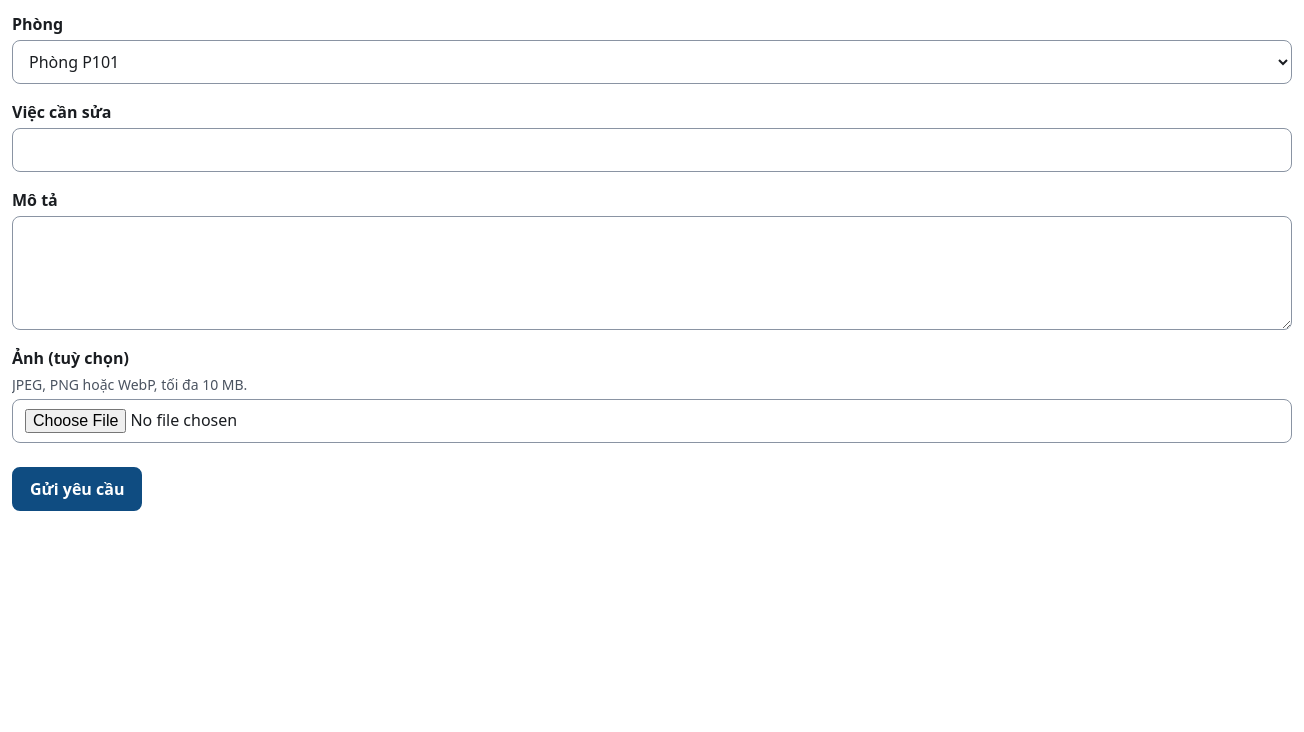
RequestForm › một phòng: không hiện ô chọn phòng; nhiều phòng: có ô chọn và gửi đúng phòng đã chọn
Select "Phòng P102" in the dropdown labelled "Phòng": (652, 62) x1=12 y1=40 x2=1292 y2=84
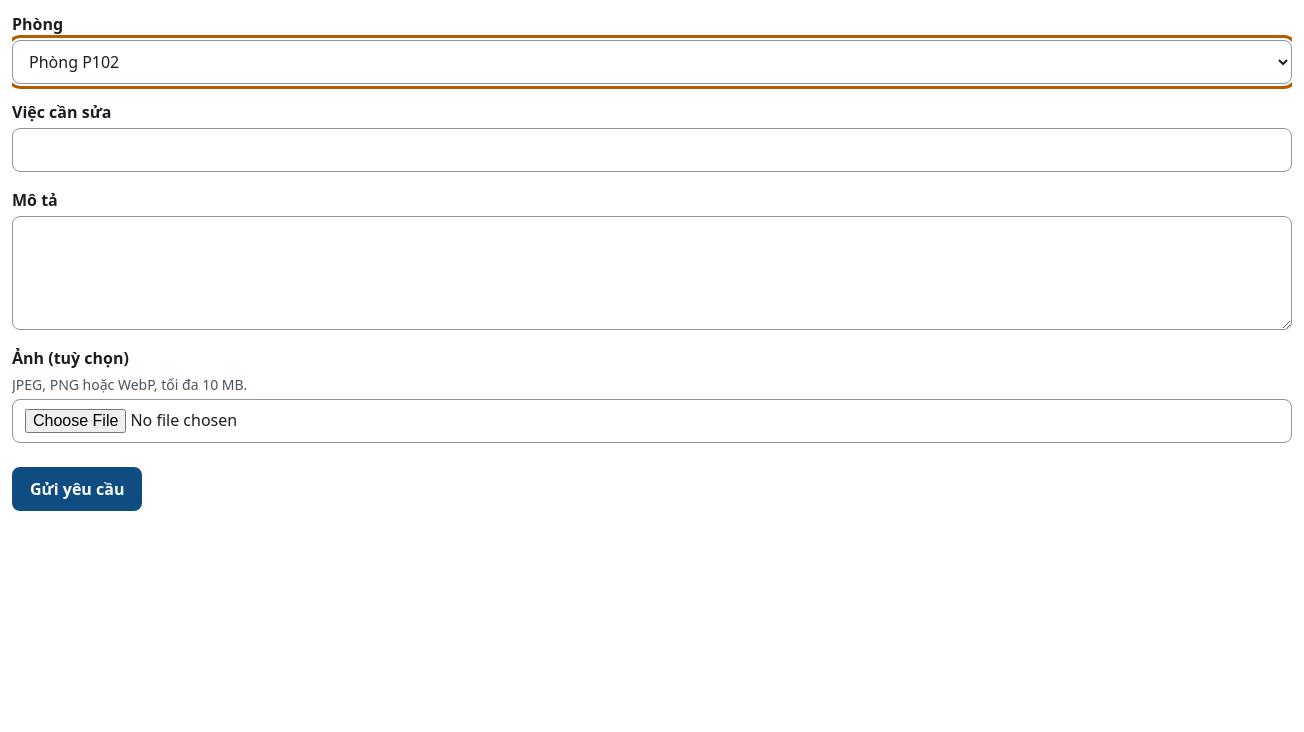
In the field labelled "Việc cần sửa": (652, 150) x1=12 y1=128 x2=1292 y2=172, type "Vòi nước rỉ"
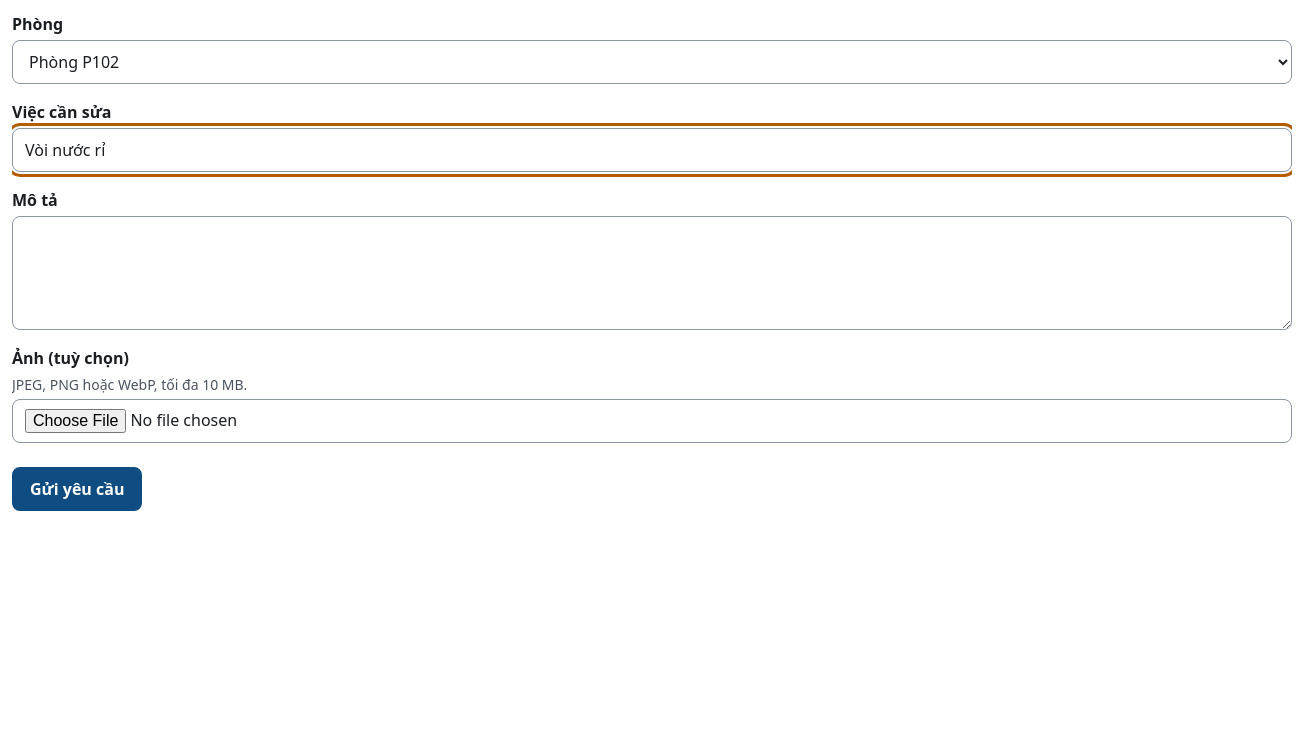
In the text box labelled "Mô tả": (652, 273) x1=12 y1=216 x2=1292 y2=330, type "Vòi bồn rửa mặt rỉ nước suốt đêm"
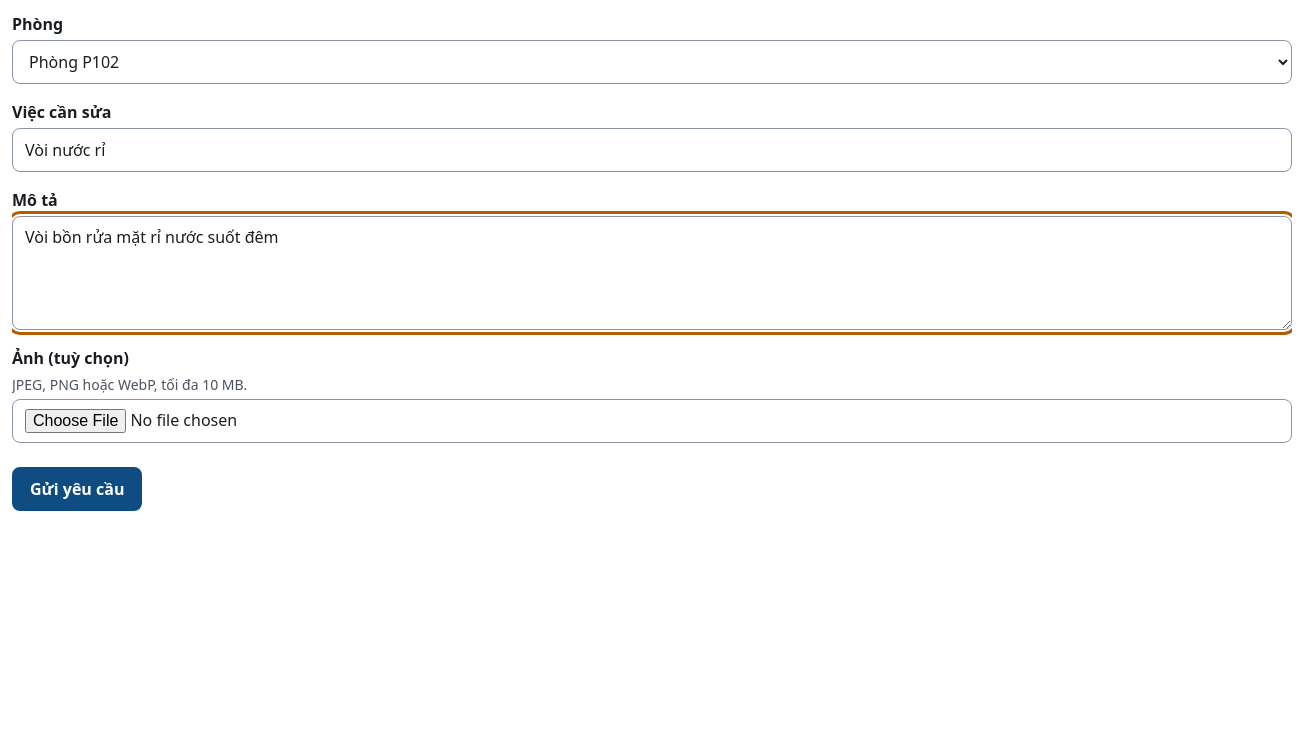
Click the button "Gửi yêu cầu": (77, 489) x1=12 y1=467 x2=142 y2=511
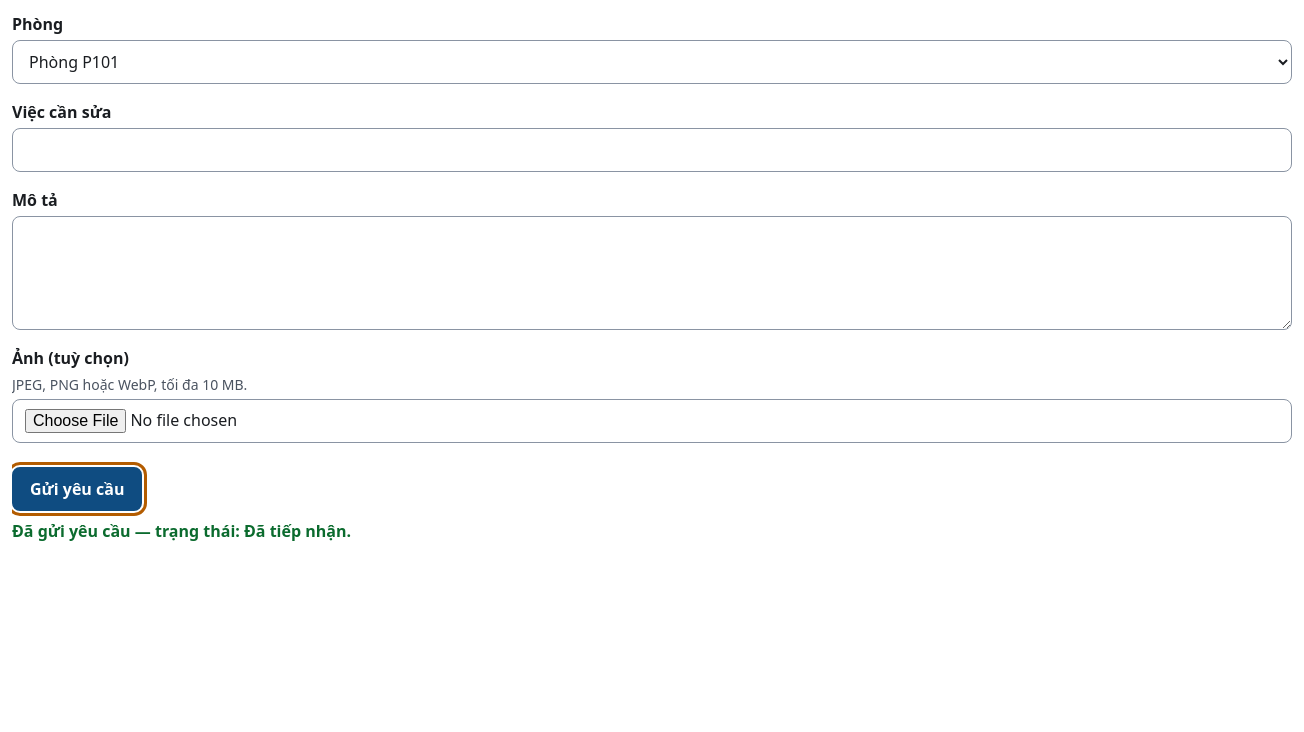
Now the message shows "Đã gửi yêu cầu", box x1=12 y1=520 x2=351 y2=542
Now the field labelled "Việc cần sửa" is empty, box x1=12 y1=128 x2=1292 y2=172
